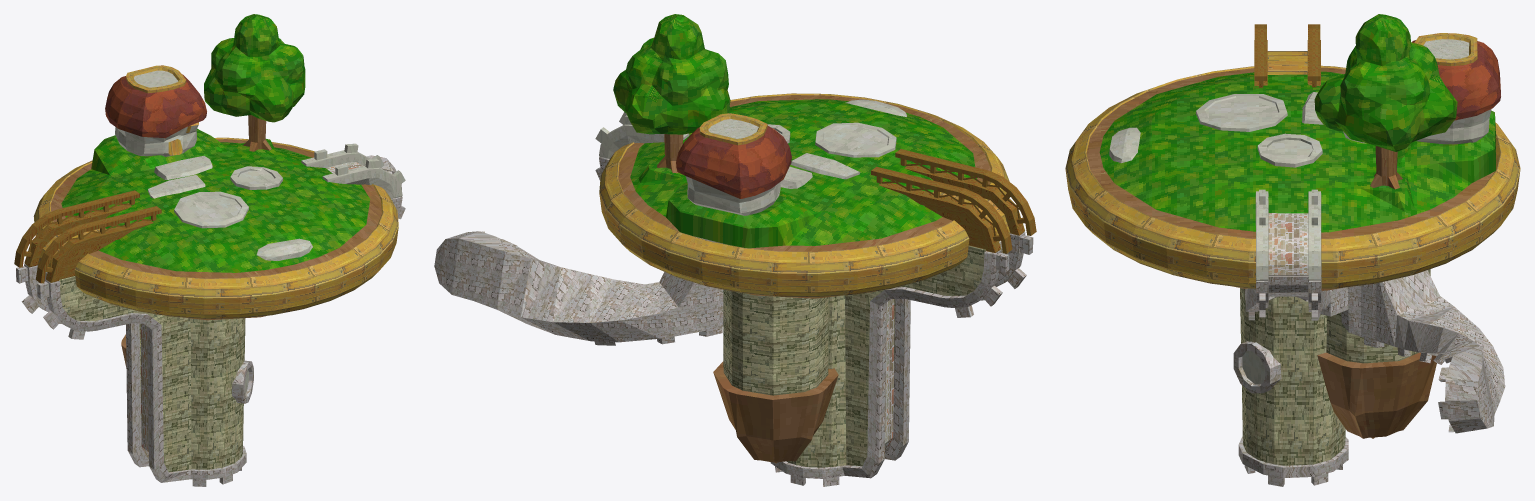
The model's file is DiskGardenPlanetLow.dae.
3 views of the same model, side by side, from view 1: azimuth 30°, elevation 25°; view 2: azimuth 150°, elevation 25°; view 3: azimuth 270°, elevation 25° (orthographic). The views are drawn at different scales.
Visible parts, largest first — view 1: m4, m7, m0, m3, m2, m9, m8, m5, m6, m1, m10; view 2: m4, m2, m7, m0, m3, m9, m1, m8, m5, m6; view 3: m4, m7, m2, m0, m3, m1, m5, m8, m6, m9.
Boxes of the visible parts, left/top/right/bottom form: m4: left=61, top=14, right=370, bottom=272; m7: left=33, top=65, right=398, bottom=318; m0: left=59, top=276, right=245, bottom=472; m3: left=115, top=70, right=405, bottom=394; m2: left=16, top=155, right=405, bottom=486; m9: left=14, top=190, right=161, bottom=283; m8: left=105, top=74, right=206, bottom=138; m5: left=50, top=139, right=381, bottom=320; m6: left=37, top=162, right=363, bottom=458; m1: left=121, top=115, right=271, bottom=366; m10: left=29, top=201, right=151, bottom=267; m4: left=613, top=14, right=976, bottom=248; m2: left=434, top=157, right=1033, bottom=486; m7: left=599, top=93, right=1010, bottom=297; m0: left=723, top=244, right=986, bottom=467; m3: left=595, top=99, right=906, bottom=215; m9: left=871, top=149, right=1036, bottom=253; m1: left=657, top=134, right=838, bottom=463; m8: left=676, top=126, right=791, bottom=198; m5: left=618, top=95, right=990, bottom=298; m6: left=885, top=234, right=1010, bottom=450; m4: left=1099, top=14, right=1495, bottom=232; m7: left=1065, top=33, right=1520, bottom=288; m2: left=1233, top=270, right=1505, bottom=486; m0: left=1240, top=269, right=1430, bottom=465; m3: left=1109, top=39, right=1491, bottom=384; m1: left=1317, top=146, right=1436, bottom=438; m5: left=1086, top=67, right=1494, bottom=290; m8: left=1412, top=40, right=1500, bottom=120; m6: left=1268, top=213, right=1308, bottom=275; m9: left=1254, top=24, right=1320, bottom=87.
Size of the model in its own units: 6323 by 5516 by 4503.
Materials: 11 (11 with a texture image).
